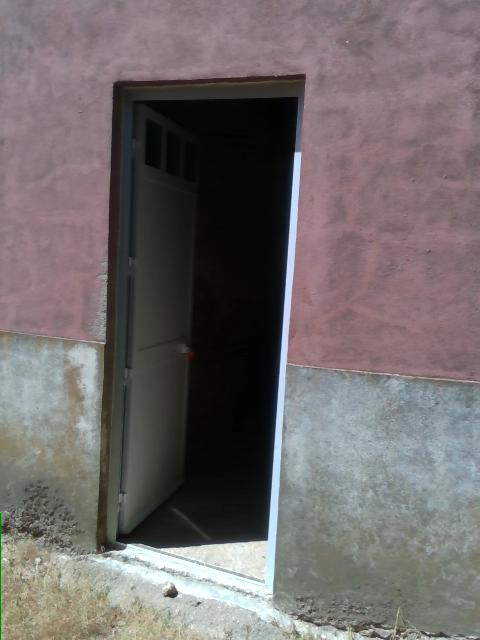door: (119, 103, 201, 536)
